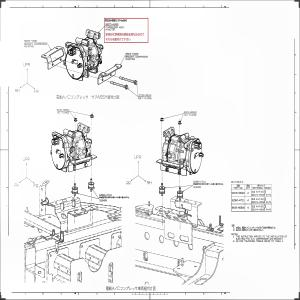PartNumber: (232, 191, 244, 195), (232, 198, 244, 202), (56, 108, 70, 111), (105, 23, 119, 26), (24, 39, 37, 42), (193, 180, 206, 183), (126, 52, 138, 55), (232, 206, 244, 209), (98, 194, 112, 196), (138, 94, 151, 96), (184, 111, 197, 113)
